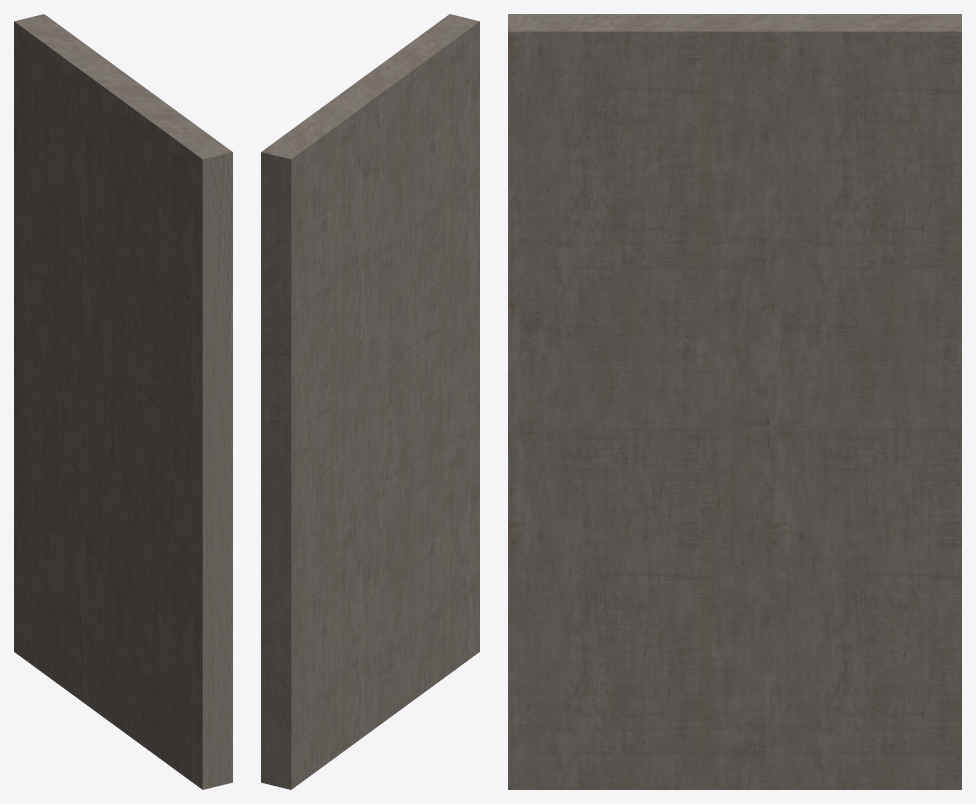
Rendered from wall11.obj.
The picture shows the model from 3 angles, left to right: view 1: azimuth 30°, elevation 25°; view 2: azimuth 150°, elevation 25°; view 3: azimuth 270°, elevation 25°; orthographic projection. The views are drawn at different scales.
Visible parts, largest first — view 1: wall.011; view 2: wall.011; view 3: wall.011.
Part boxes in pixels (x1,y1,x2,y2): wall.011: (14,14,232,789); wall.011: (261,14,479,789); wall.011: (508,14,961,789).
Bounding box in the file's own units: 0.05 × 1 × 0.5424.
